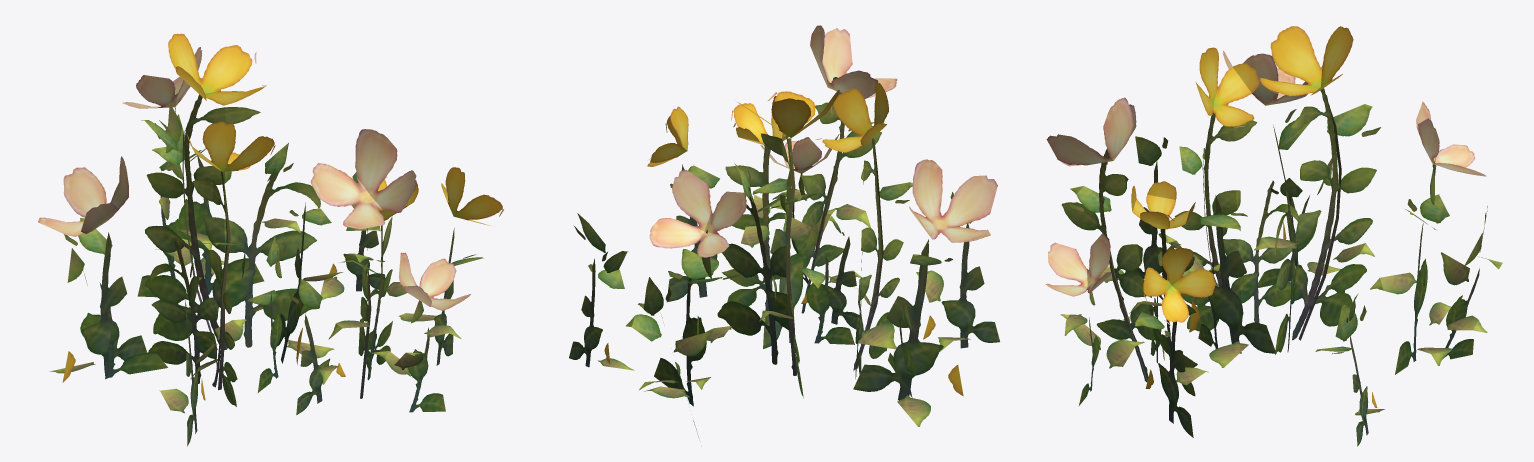
Rendered from Yland1_Zb_04_Yland1.FBX.
3 renders of one model, left to right at view 1: azimuth 30°, elevation 25°; view 2: azimuth 150°, elevation 25°; view 3: azimuth 270°, elevation 25°, orthographic.
Parts seen in each view (by area): view 1: Yland1_Zb_04_Yland1; view 2: Yland1_Zb_04_Yland1; view 3: Yland1_Zb_04_Yland1.
Part boxes in pixels (x1,y1,x2,y2): Yland1_Zb_04_Yland1: (38,33,503,446); Yland1_Zb_04_Yland1: (569,25,999,438); Yland1_Zb_04_Yland1: (1045,26,1502,446).
Bounding box in the file's own units: 3.79 × 2.92 × 3.9.
